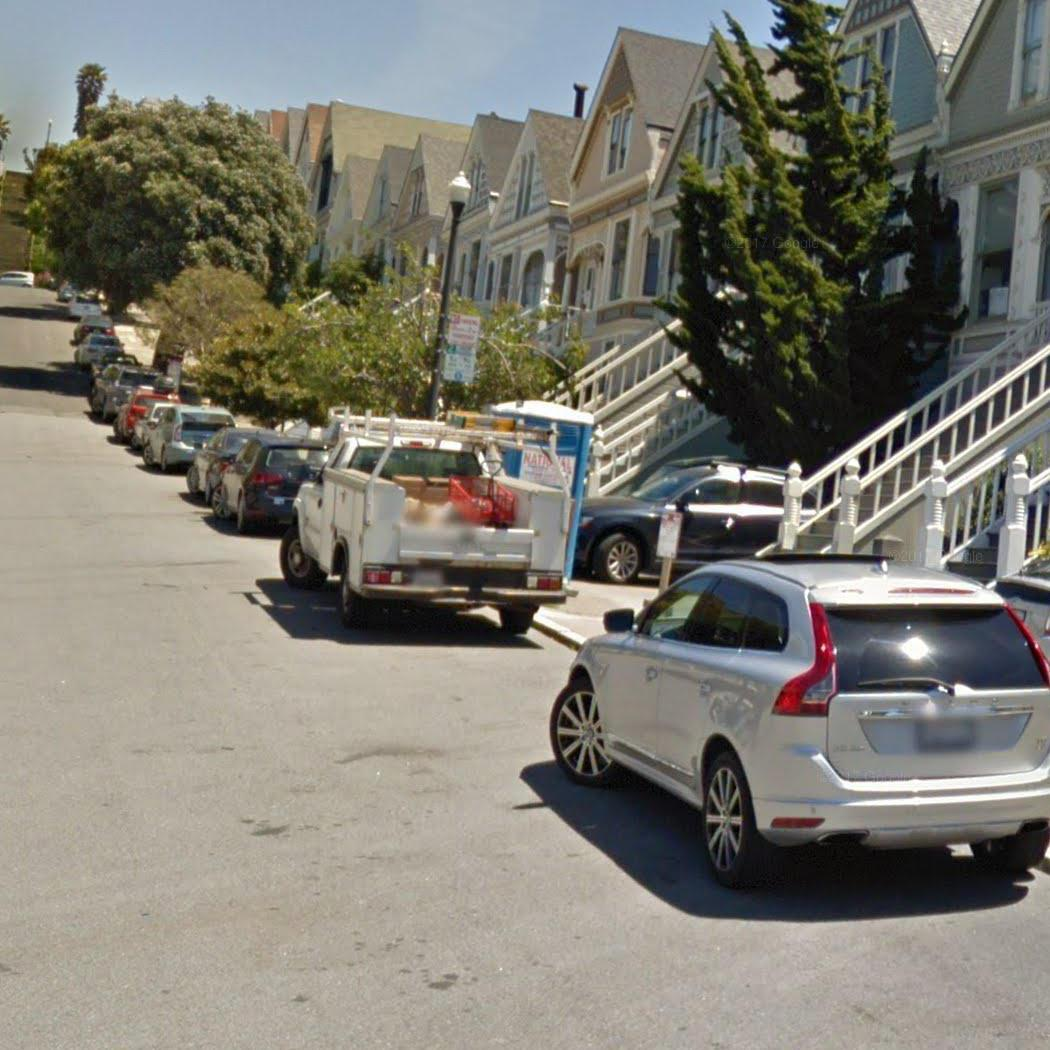2 Hour Parking: (442, 348, 478, 382)
No Parking: (446, 312, 480, 345)
